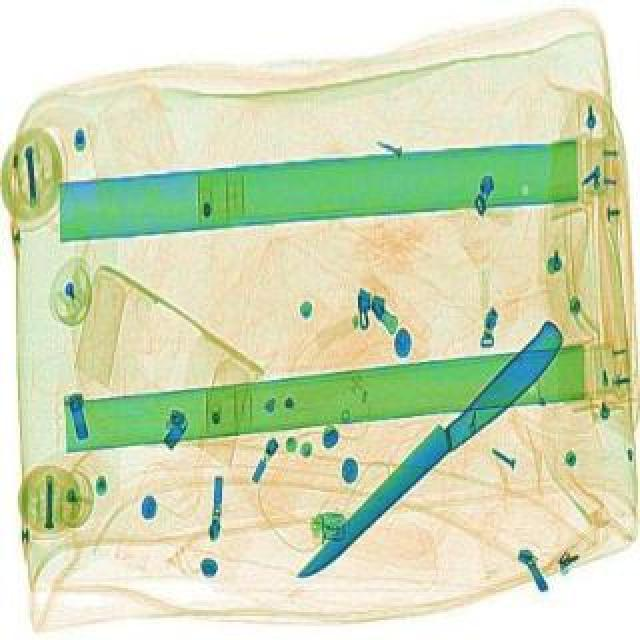knife: (288, 318, 576, 586)
